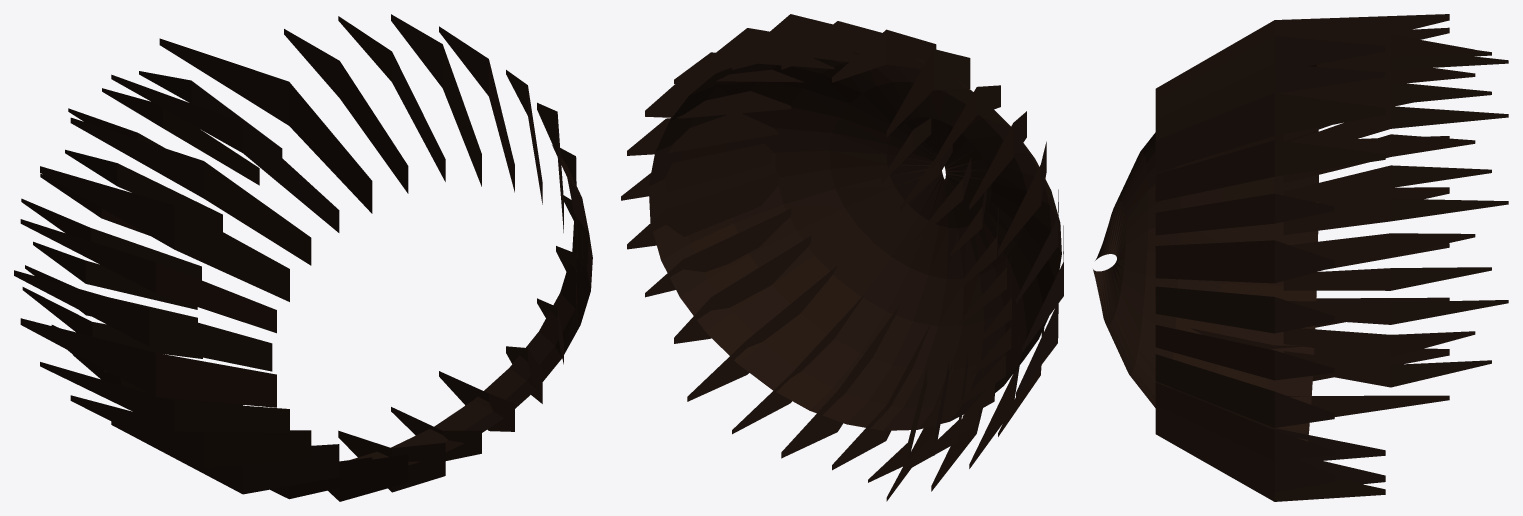
Rendered from snake_1995_hair.obj.
The picture shows the model from 3 angles, left to right: view 1: azimuth 30°, elevation 25°; view 2: azimuth 150°, elevation 25°; view 3: azimuth 270°, elevation 25°; orthographic projection. The views are drawn at different scales.
Parts seen in each view (by area): view 1: snake_1995_hair; view 2: snake_1995_hair; view 3: snake_1995_hair.
Part boxes in pixels (bbox=[...]): snake_1995_hair: bbox=[14, 14, 592, 501]; snake_1995_hair: bbox=[621, 14, 1063, 501]; snake_1995_hair: bbox=[1093, 14, 1508, 501].
Bounding box in the file's own units: 21.49 × 18.65 × 16.27.
